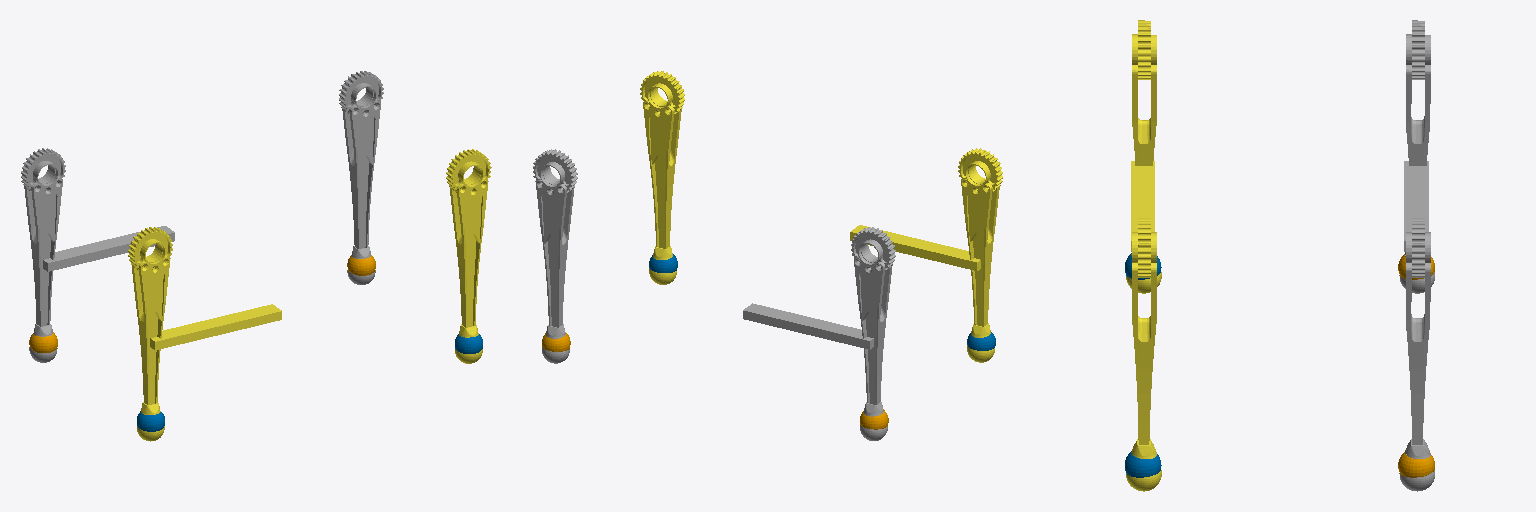
robot.urdf — mini_cheetah:
<?xml version="1.0" ?>
<robot name="mini_cheetah" xmlns:xacro="http://ros.org/wiki/xacro">
    <link name="body">
        <inertial>
            <mass value="3.3"/>
            <origin xyz="0.0 0.0 0.0"/>
            <inertia ixx="0.011253" ixy="0" ixz="0" iyy="0.036203" iyz="0" izz="0.042673"/>
        </inertial>
        <visual>
            <geometry>
                <mesh filename="meshes/mini_body.obj"/>
            </geometry>
            <origin rpy="0.0 0.0 0.0" xyz="0.0 0.0 0.0"/>
        </visual>
        <collision>
            <geometry>
                <mesh filename="meshes/mini_body.obj"/>
            </geometry>
            <origin rpy="0 0 0" xyz="0 0 0"/>
        </collision>
    </link>

    <!--!!!!!!!!!!!! Front Right Leg !!!!!!!!!!!!!!!!!!!!!!!!!!!!!!!!!!!!-->
    <joint name="torso_to_abduct_fr_j" type="continuous">
        <axis xyz="1 0 0"/>
        <origin rpy="0 0 0" xyz="0.19 -0.049 0.0"/>
        <parent link="body"/>
        <child link="abduct_fr"/>
    </joint>
    <link name="abduct_fr">
        <inertial>
            <mass value="0.54"/>
            <origin xyz="0.0 0.036 0."/>
            <inertia ixx="0.000381" ixy="0.000058" ixz="0.00000045" 
                iyy="0.000560" iyz="0.00000095" izz="0.000444"/>
        </inertial>
        <visual>
            <geometry>
                <mesh filename="meshes/mini_abad.obj"/>
            </geometry>
            <origin rpy="3.141592 0.0 1.5708" xyz="-0.055 0.0 0.0"/>
        </visual>
        <collision>
            <geometry>
                <mesh filename="meshes/mini_abad.obj"/>
            </geometry>
            <origin rpy="3.141592 0 1.5708" xyz="-0.055 0 0"/>
        </collision>
    </link>

    <joint name="abduct_fr_to_thigh_fr_j" type="continuous">
        <axis xyz="0 -1 0"/>
        <origin rpy="0.0 0.0 0.0" xyz="0.0 -0.062 0.00"/>
        <parent link="abduct_fr"/>
        <child link="thigh_fr"/>
    </joint>
    <link name="thigh_fr">
        <inertial>
            <mass value="0.634"/>
            <origin xyz="0.0 0.016 -0.02"/>
            <inertia ixx="0.001983" ixy="0.000245" ixz="0.000013" 
                iyy="0.002103" iyz="0.0000015" izz="0.000408"/>
        </inertial>
        <visual>
            <geometry>
                <mesh filename="meshes/mini_upper_link.obj"/>
            </geometry>
            <origin rpy="0.0 -1.5708 0.0" xyz="0.0 0.0 0.0"/>
        </visual>
        <collision>
            <geometry>
                <mesh filename="meshes/mini_upper_link.obj"/>
            </geometry>
            <origin rpy="0 -1.5708 0" xyz="0 0 0"/>
        </collision>
    </link>

    <joint name="thigh_fr_to_knee_fr_j" type="continuous">
        <axis xyz="0 -1 0"/>
        <origin rpy="0.0 0 0.0" xyz="0.0 0.0 -0.209"/>
        <parent link="thigh_fr"/>
        <child link="shank_fr"/>
    </joint>
    <link name="shank_fr">
        <inertial>
            <mass value="0.064"/>
            <origin xyz="0.0 0.0 -0.209"/>
            <inertia ixx="0.000245" ixy="0" ixz="0.0" iyy="0.000248" iyz="0" izz="0.000006"/>
        </inertial>
        <visual>
            <geometry>
                <mesh filename="meshes/mini_lower_pure_link_scale.obj"/>
            </geometry>
            <origin rpy="0.0 3.141592 0.0" xyz="0.0 0.0 0.0"/>
        </visual>
        <collision>
            <geometry>
                <mesh filename="meshes/mini_lower_pure_link_scale.obj"/>
            </geometry>
            <origin rpy="0 3.141592 0" xyz="0 0 0"/>
        </collision>
    </link>
    <link name="toe_fr">
    <contact>
      <friction_anchor/>
      <stiffness value="30000.0"/>
      <damping value="1000.0"/>
      <spinning_friction value="0.3"/>
      <lateral_friction value="3.0"/>
    </contact>
    <visual>
      <origin rpy="0 0 0" xyz="0 0 0"/>
      <geometry>
        <sphere radius="0.015"/>
      </geometry>
      <material name="darkgray"/>
    </visual>
    <collision>
      <origin rpy="0 0 0" xyz="0 0 0"/>
      <geometry>
        <sphere radius="0.015"/>
      </geometry>
    </collision>
    <inertial>
      <mass value="0.15"/>
      <inertia ixx="0.000025" ixy="0" ixz="0" iyy="0.000025" iyz="0" izz="0.000025"/>
    </inertial>
  </link>
  <joint name="toe_fr_joint" type="fixed">
    <parent link="shank_fr"/>
    <child link="toe_fr"/>
    <origin xyz="0 0 -0.195"/>
    <dynamics damping="0.0" friction="0.0"/>
  </joint>

 
<!--!!!!!!!!!!!! Front Left Leg !!!!!!!!!!!!!!!!!!!!!!!!!!!!!!!!!!!!-->
    <joint name="torso_to_abduct_fl_j" type="continuous">
        <axis xyz="1 0 0"/>
        <origin rpy="0 0 0" xyz="0.19 0.049 0.0"/>
        <parent link="body"/>
        <child link="abduct_fl"/>
    </joint>
    <link name="abduct_fl">
        <inertial>
            <mass value="0.54"/>
            <origin xyz="0.0 0.036 0."/>
            <inertia ixx="0.000381" ixy="0.000058" ixz="0.00000045" 
                iyy="0.000560" iyz="0.00000095" izz="0.000444"/>
        </inertial>
        <visual>
            <geometry>
                <mesh filename="meshes/mini_abad.obj"/>
            </geometry>
            <origin rpy="0. 0. -1.5708" xyz="-0.055 0.0 0.0"/>
        </visual>
        <collision>
            <geometry>
                <mesh filename="meshes/mini_abad.obj"/>
            </geometry>
            <origin rpy="0 0 -1.5708" xyz="-0.055 0 0"/>
        </collision>
    </link>

    <joint name="abduct_fl_to_thigh_fl_j" type="continuous">
        <axis xyz="0 -1 0"/>
        <origin rpy="0.0 0.0 0.0" xyz="0.0 0.062 0.00"/>
        <parent link="abduct_fl"/>
        <child link="thigh_fl"/>
    </joint>
    <link name="thigh_fl">
        <inertial>
            <mass value="0.634"/>
            <origin xyz="0.0 0.016 -0.02"/>
            <inertia ixx="0.001983" ixy="0.000245" ixz="0.000013" 
                iyy="0.002103" iyz="0.0000015" izz="0.000408"/>
        </inertial>
        <visual>
            <geometry>
                <mesh filename="meshes/mini_upper_link.obj"/>
            </geometry>
            <origin rpy="0.0 -1.5708 0.0" xyz="0.0 0.0 0.0"/>
        </visual>
        <collision>
            <geometry>
                <mesh filename="meshes/mini_upper_link.obj"/>
            </geometry>
            <origin rpy="0 -1.5708 0" xyz="0 0 0"/>
        </collision>
    </link>

    <joint name="thigh_fl_to_knee_fl_j" type="continuous">
        <axis xyz="0 -1 0"/>
        <origin rpy="0.0 0 0.0" xyz="0.0 0.0 -0.209"/>
        <parent link="thigh_fl"/>
        <child link="shank_fl"/>
    </joint>
    <link name="shank_fl">
        <inertial>
            <mass value="0.064"/>
            <origin xyz="0.0 0.0 -0.209"/>
            <inertia ixx="0.000245" ixy="0" ixz="0.0" iyy="0.000248" iyz="0" izz="0.000006"/>
        </inertial>
        <visual>
            <geometry>
                <mesh filename="meshes/mini_lower_pure_link_scale.obj"/>
            </geometry>
            <origin rpy="0.0 3.141592 0.0" xyz="0.0 0.0 0.0"/>
        </visual>
        <collision>
            <geometry>
                <mesh filename="meshes/mini_lower_pure_link_scale.obj"/>
            </geometry>
            <origin rpy="0 3.141592 0" xyz="0 0 0"/>
        </collision>
    </link>
    <link name="toe_fl">
      <contact>
      <friction_anchor/>
      <stiffness value="30000.0"/>
      <damping value="1000.0"/>
      <spinning_friction value="0.3"/>
      <lateral_friction value="3.0"/>
    </contact>
    <visual>
      <origin rpy="0 0 0" xyz="0 0 0"/>
      <geometry>
        <sphere radius="0.015"/>
      </geometry>
      <material name="darkgray"/>
    </visual>
    <collision>
      <origin rpy="0 0 0" xyz="0 0 0"/>
      <geometry>
        <sphere radius="0.015"/>
      </geometry>
    </collision>
    <inertial>
      <mass value="0.15"/>
      <inertia ixx="0.000025" ixy="0" ixz="0" iyy="0.000025" iyz="0" izz="0.000025"/>
    </inertial>
  </link>
  <joint name="toe_fl_joint" type="fixed">
    <parent link="shank_fl"/>
    <child link="toe_fl"/>
    <origin xyz="0 0 -0.195"/>
    <dynamics damping="0.0" friction="0.0"/>
  </joint>


<!--!!!!!!!!!!!! Hind Right Leg !!!!!!!!!!!!!!!!!!!!!!!!!!!!!!!!!!!!-->
    <joint name="torso_to_abduct_hr_j" type="continuous">
        <axis xyz="1 0 0"/>
        <origin rpy="0 0 0" xyz="-0.19 -0.049 0.0"/>
        <parent link="body"/>
        <child link="abduct_hr"/>
    </joint>
    <link name="abduct_hr">
        <inertial>
            <mass value="0.54"/>
            <origin xyz="0.0 0.036 0."/>
            <inertia ixx="0.000381" ixy="0.000058" ixz="0.00000045" 
                iyy="0.000560" iyz="0.00000095" izz="0.000444"/>
        </inertial>
        <visual>
            <geometry>
                <mesh filename="meshes/mini_abad.obj"/>
            </geometry>
            <origin rpy="0.0 0.0 1.5708" xyz="0.055 0.0 0.0"/>
        </visual>
        <collision>
            <geometry>
                <mesh filename="meshes/mini_abad.obj"/>
            </geometry>
            <origin rpy="0 0 1.5708" xyz="0.055 0 0"/>
        </collision>
    </link>

    <joint name="abduct_hr_to_thigh_hr_j" type="continuous">
        <axis xyz="0 -1 0"/>
        <origin rpy="0.0 0.0 0.0" xyz="0.0 -0.062 0.00"/>
        <parent link="abduct_hr"/>
        <child link="thigh_hr"/>
    </joint>
    <link name="thigh_hr">
        <inertial>
            <mass value="0.634"/>
            <origin xyz="0.0 0.016 -0.02"/>
            <inertia ixx="0.001983" ixy="0.000245" ixz="0.000013" 
                iyy="0.002103" iyz="0.0000015" izz="0.000408"/>
        </inertial>
        <visual>
            <geometry>
                <mesh filename="meshes/mini_upper_link.obj"/>
            </geometry>
            <origin rpy="0.0 -1.5708 0.0" xyz="0.0 0.0 0.0"/>
        </visual>
        <collision>
            <geometry>
                <mesh filename="meshes/mini_upper_link.obj"/>
            </geometry>
            <origin rpy="0 -1.5708 0" xyz="0 0 0"/>
        </collision>
    </link>

    <joint name="thigh_hr_to_knee_hr_j" type="continuous">
        <axis xyz="0 -1 0"/>
        <origin rpy="0.0 0 0.0" xyz="0.0 0.0 -0.209"/>
        <parent link="thigh_hr"/>
        <child link="shank_hr"/>
    </joint>
    <link name="shank_hr">
        <inertial>
            <mass value="0.064"/>
            <origin xyz="0.0 0.0 -0.209"/>
            <inertia ixx="0.000245" ixy="0" ixz="0.0" iyy="0.000248" iyz="0" izz="0.000006"/>
        </inertial>
        <visual>
            <geometry>
                <mesh filename="meshes/mini_lower_link_scale.obj"/>
            </geometry>
            <origin rpy="0.0 3.141592 0.0" xyz="0.0 0.0 0.0"/>
        </visual>
        <collision>
            <geometry>
                <mesh filename="meshes/mini_lower_link_scale.obj"/>
            </geometry>
            <origin rpy="0 3.141592 0" xyz="0 0 0"/>
        </collision>
    </link>
     <link name="toe_hr">
      <contact>
      <friction_anchor/>
      <stiffness value="30000.0"/>
      <damping value="1000.0"/>
      <spinning_friction value="0.3"/>
      <lateral_friction value="3.0"/>
    </contact>
    <visual>
      <origin rpy="0 0 0" xyz="0 0 0"/>
      <geometry>
        <sphere radius="0.015"/>
      </geometry>
      <material name="darkgray"/>
    </visual>
    <collision>
      <origin rpy="0 0 0" xyz="0 0 0"/>
      <geometry>
        <sphere radius="0.015"/>
      </geometry>
    </collision>
    <inertial>
      <mass value="0.15"/>
      <inertia ixx="0.000025" ixy="0" ixz="0" iyy="0.000025" iyz="0" izz="0.000025"/>
    </inertial>
  </link>
  <joint name="toe_hr_joint" type="fixed">
    <parent link="shank_hr"/>
    <child link="toe_hr"/>
    <origin xyz="0 0 -0.195"/>
    <dynamics damping="0.0" friction="0.0"/>
  </joint>


<!--!!!!!!!!!!!! Hind Left Leg !!!!!!!!!!!!!!!!!!!!!!!!!!!!!!!!!!!!-->
    <joint name="torso_to_abduct_hl_j" type="continuous">
        <axis xyz="1 0 0"/>
        <origin rpy="0 0 0" xyz="-0.19 0.049 0.0"/>
        <parent link="body"/>
        <child link="abduct_hl"/>
    </joint>
    <link name="abduct_hl">
        <inertial>
            <mass value="0.54"/>
            <origin xyz="0.0 0.036 0."/>
            <inertia ixx="0.000381" ixy="0.000058" ixz="0.00000045" 
                iyy="0.000560" iyz="0.00000095" izz="0.000444"/>
        </inertial>
        <visual>
            <geometry>
                <mesh filename="meshes/mini_abad.obj"/>
            </geometry>
            <origin rpy="3.141592 0.0 -1.5708" xyz="0.055 0.0 0.0"/>
        </visual>
        <collision>
            <geometry>
                <mesh filename="meshes/mini_abad.obj"/>
            </geometry>
            <origin rpy="3.141592 0 -1.5708" xyz="0.055 0 0"/>
        </collision>
    </link>

    <joint name="abduct_hl_to_thigh_hl_j" type="continuous">
        <axis xyz="0 -1 0"/>
        <origin rpy="0.0 0.0 0.0" xyz="0.0 0.062 0.00"/>
        <parent link="abduct_hl"/>
        <child link="thigh_hl"/>
    </joint>
    <link name="thigh_hl">
        <inertial>
            <mass value="0.634"/>
            <origin xyz="0.0 0.016 -0.02"/>
            <inertia ixx="0.001983" ixy="0.000245" ixz="0.000013" 
                iyy="0.002103" iyz="0.0000015" izz="0.000408"/>
        </inertial>
        <visual>
            <geometry>
                <mesh filename="meshes/mini_upper_link.obj"/>
            </geometry>
            <origin rpy="0.0 -1.5708 0.0" xyz="0.0 0.0 0.0"/>
        </visual>
        <collision>
            <geometry>
                <mesh filename="meshes/mini_upper_link.obj"/>
            </geometry>
            <origin rpy="0 -1.5708 0" xyz="0 0 0"/>
        </collision>
    </link>

    <joint name="thigh_hl_to_knee_hl_j" type="continuous">
        <axis xyz="0 -1 0"/>
        <origin rpy="0.0 0 0.0" xyz="0.0 0.0 -0.209"/>
        <parent link="thigh_hl"/>
        <child link="shank_hl"/>
    </joint>
    <link name="shank_hl">
        <inertial>
            <mass value="0.064"/>
            <origin xyz="0.0 0.0 -0.209"/>
            <inertia ixx="0.000245" ixy="0" ixz="0.0" iyy="0.000248" iyz="0" izz="0.000006"/>
        </inertial>
        <visual>
            <geometry>
                <mesh filename="meshes/mini_lower_link_scale.obj"/>
            </geometry>
            <origin rpy="0.0 3.141592 0.0" xyz="0.0 0.0 0.0"/>
        </visual>
        <collision>
            <geometry>
                <mesh filename="meshes/mini_lower_link_scale.obj"/>
            </geometry>
            <origin rpy="0 3.141592 0" xyz="0 0 0"/>
        </collision>
    </link>
    <link name="toe_hl">
      <contact>
      <friction_anchor/>
      <stiffness value="30000.0"/>
      <damping value="1000.0"/>
      <spinning_friction value="0.3"/>
      <lateral_friction value="3.0"/>
    </contact>
    <visual>
      <origin rpy="0 0 0" xyz="0 0 0"/>
      <geometry>
        <sphere radius="0.015"/>
      </geometry>
      <material name="darkgray"/>
    </visual>
    <collision>
      <origin rpy="0 0 0" xyz="0 0 0"/>
      <geometry>
        <sphere radius="0.015"/>
      </geometry>
    </collision>
    <inertial>
      <mass value="0.15"/>
      <inertia ixx="0.000025" ixy="0" ixz="0" iyy="0.000025" iyz="0" izz="0.000025"/>
    </inertial>
  </link>
  <joint name="toe_hl_joint" type="fixed">
    <parent link="shank_hl"/>
    <child link="toe_hl"/>
    <origin xyz="0 0 -0.195"/>
    <dynamics damping="0.0" friction="0.0"/>
  </joint>



</robot>

--- What the picture shows (computed from the rendered views, not written in the file) ---
3 views of the same robot in one strip: view 1: azimuth 30°, elevation 25°; view 2: azimuth 150°, elevation 25°; view 3: azimuth 270°, elevation 25° (orthographic).
Model mini_cheetah with 17 links and 16 joints (12 continuous, 4 fixed), rooted at body, posed all joints at 0.
Links seen in each view (by area): view 1: shank_hr, shank_hl, shank_fr, shank_fl; view 2: shank_hl, shank_hr, shank_fl, shank_fr; view 3: shank_fr, shank_fl, shank_hl, shank_hr, toe_fr, toe_fl.
Link boxes in pixels (bbox=[...]): shank_hr: bbox=[128, 227, 281, 441]; shank_hl: bbox=[21, 148, 174, 362]; shank_fr: bbox=[446, 149, 491, 363]; shank_fl: bbox=[339, 71, 383, 284]; shank_hl: bbox=[743, 227, 895, 440]; shank_hr: bbox=[850, 148, 1002, 362]; shank_fl: bbox=[533, 149, 577, 363]; shank_fr: bbox=[640, 71, 684, 284]; shank_fr: bbox=[1126, 218, 1161, 491]; shank_fl: bbox=[1399, 218, 1434, 491]; shank_hl: bbox=[1399, 20, 1434, 293]; shank_hr: bbox=[1126, 20, 1161, 293]; toe_fr: bbox=[1125, 451, 1161, 477]; toe_fl: bbox=[1398, 452, 1434, 477].
Size in the robot's own frame: 0.4285 by 0.2522 by 0.2407 metres.
Meshes: 5 distinct files referenced, 4 mesh visuals loaded (2 OBJ); not drawn: 9 (reference not matched to a file when rendering).